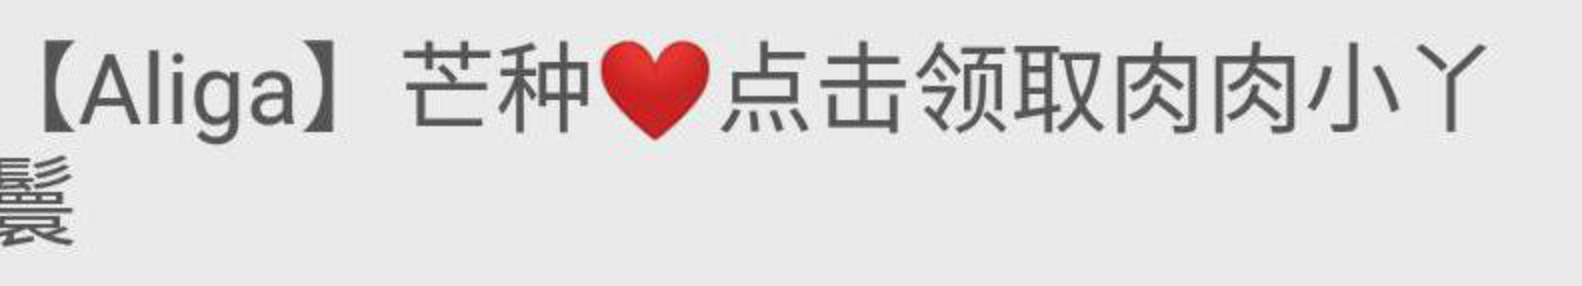TextView: (1, 1, 1581, 285)
